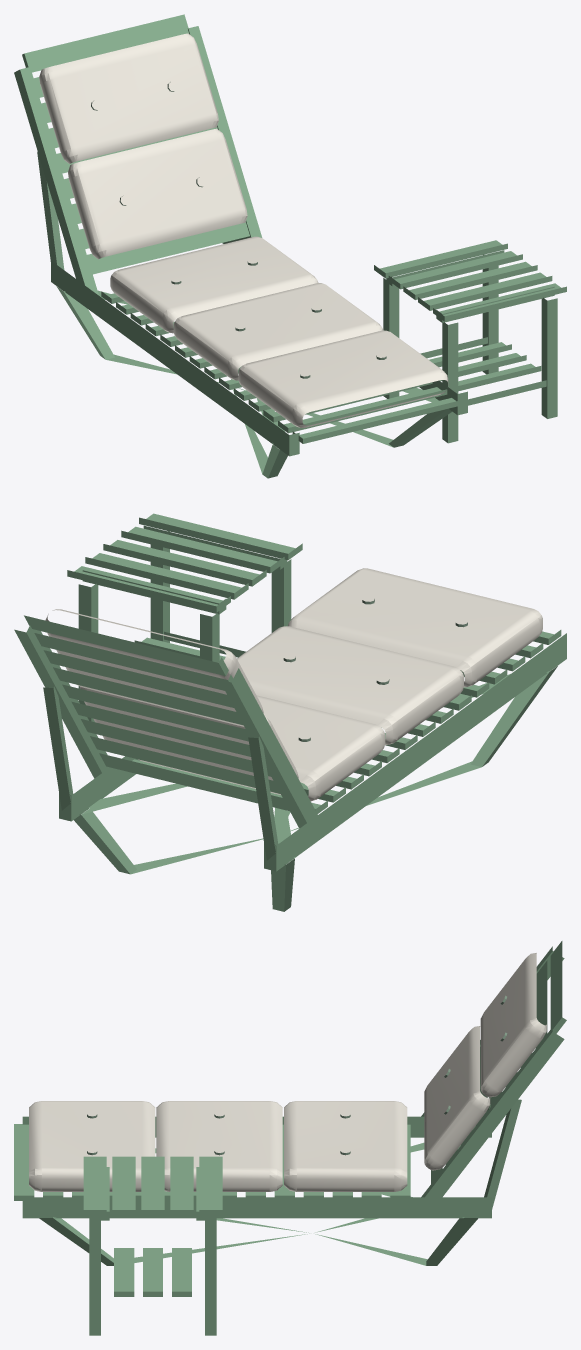
File: lounger_L1.glb
3 views of the same model, one above another, from view 1: azimuth 30°, elevation 25°; view 2: azimuth 150°, elevation 25°; view 3: azimuth 270°, elevation 25° (orthographic). The views are drawn at different scales.
Parts seen in each view (by area): view 1: Cushions, Lounger_Slat_Frame, Table_Slat_Frame; view 2: Lounger_Slat_Frame, Cushions, Table_Slat_Frame; view 3: Cushions, Lounger_Slat_Frame, Table_Slat_Frame.
Boxes of the visible parts, box(x1,y1,x2,y2) form: Cushions: box(39, 33, 448, 427); Lounger_Slat_Frame: box(14, 14, 467, 478); Table_Slat_Frame: box(374, 240, 566, 443); Lounger_Slat_Frame: box(14, 615, 566, 911); Cushions: box(45, 568, 542, 801); Table_Slat_Frame: box(67, 513, 302, 722); Cushions: box(29, 953, 546, 1191); Lounger_Slat_Frame: box(14, 941, 566, 1265); Table_Slat_Frame: box(83, 1156, 222, 1335).
Bounding box in the file's own units: 1.22 × 0.9698 × 1.91.
